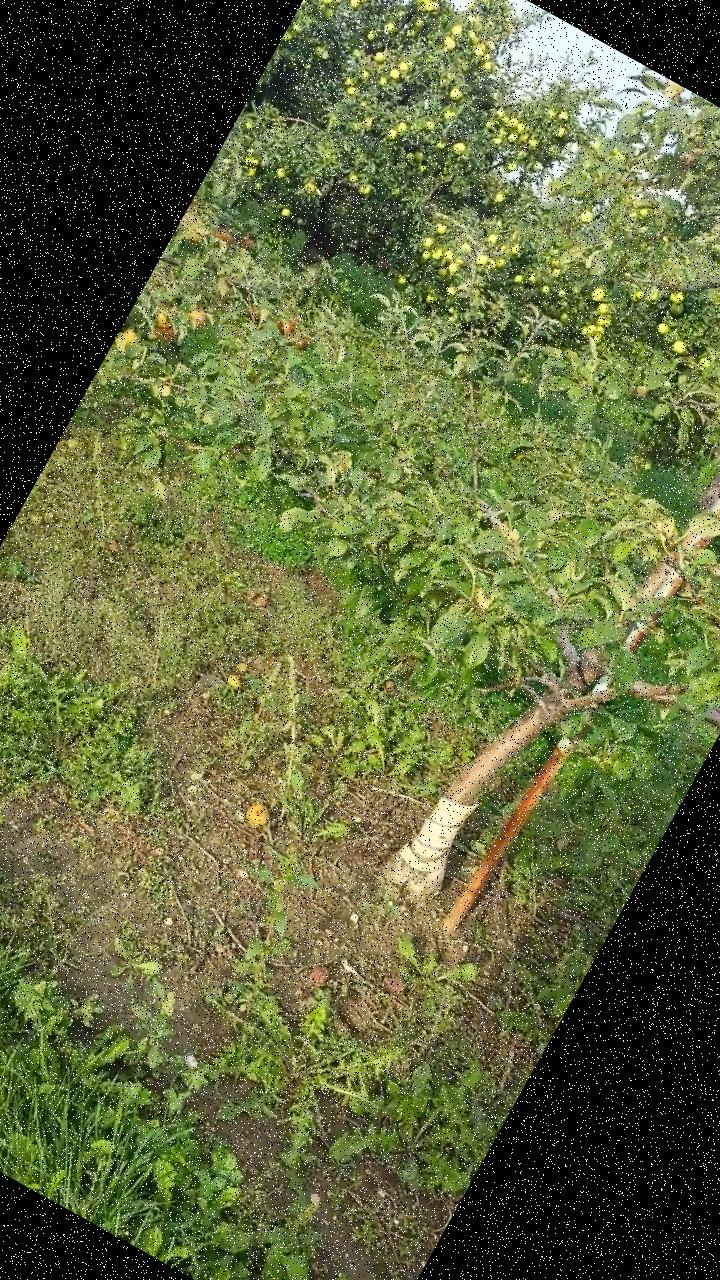Apple: (149, 314, 181, 344), (274, 312, 300, 338), (210, 224, 238, 247), (117, 326, 139, 350), (234, 232, 257, 254), (185, 308, 207, 328), (295, 338, 311, 352)
